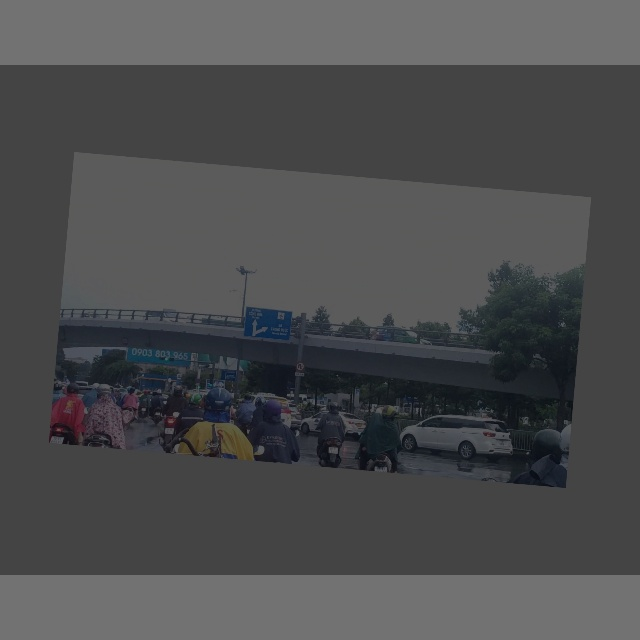P.124b1: (293, 359, 307, 373)
